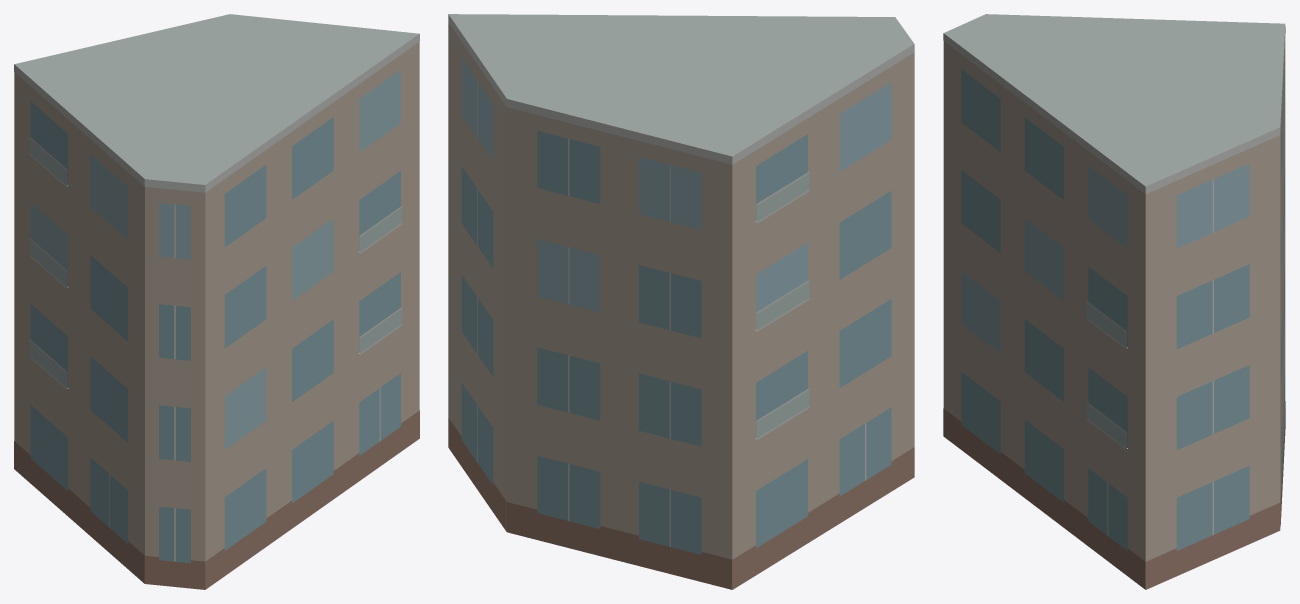
File: survey-upis-32462112.glb
3 views of the same model, side by side, from view 1: azimuth 30°, elevation 25°; view 2: azimuth 150°, elevation 25°; view 3: azimuth 270°, elevation 25° (orthographic). The views are drawn at different scales.
Visible parts, largest first — view 1: survey-upis-32462112.tmp; view 2: survey-upis-32462112.tmp; view 3: survey-upis-32462112.tmp.
Part boxes in pixels (x1=…): survey-upis-32462112.tmp: x1=14, y1=14, x2=419, y2=589; survey-upis-32462112.tmp: x1=448, y1=14, x2=914, y2=589; survey-upis-32462112.tmp: x1=943, y1=14, x2=1285, y2=589.
Size of the model in its own units: 11.76 by 12.8 by 9.85.
